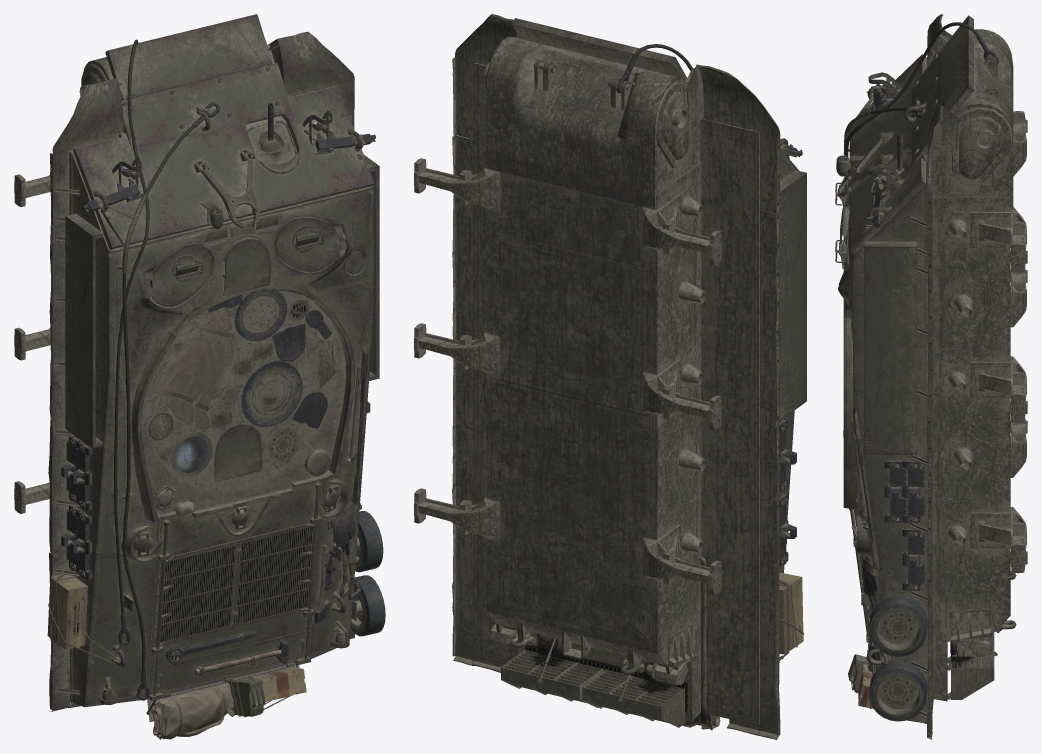
File: Hull.glb
The picture shows the model from 3 angles, left to right: view 1: azimuth 30°, elevation 25°; view 2: azimuth 150°, elevation 25°; view 3: azimuth 270°, elevation 25°; orthographic projection. The views are drawn at different scales.
Parts seen in each view (by area): view 1: set_0_group_0; view 2: set_0_group_0; view 3: set_0_group_0.
Boxes of the visible parts, <box> form: set_0_group_0: <box>14,14,385,739</box>; set_0_group_0: <box>414,14,806,739</box>; set_0_group_0: <box>835,14,1027,739</box>.
Bounding box in the file's own units: 3.09 × 6.31 × 1.69.
Materials: 1 (1 with a texture image).
